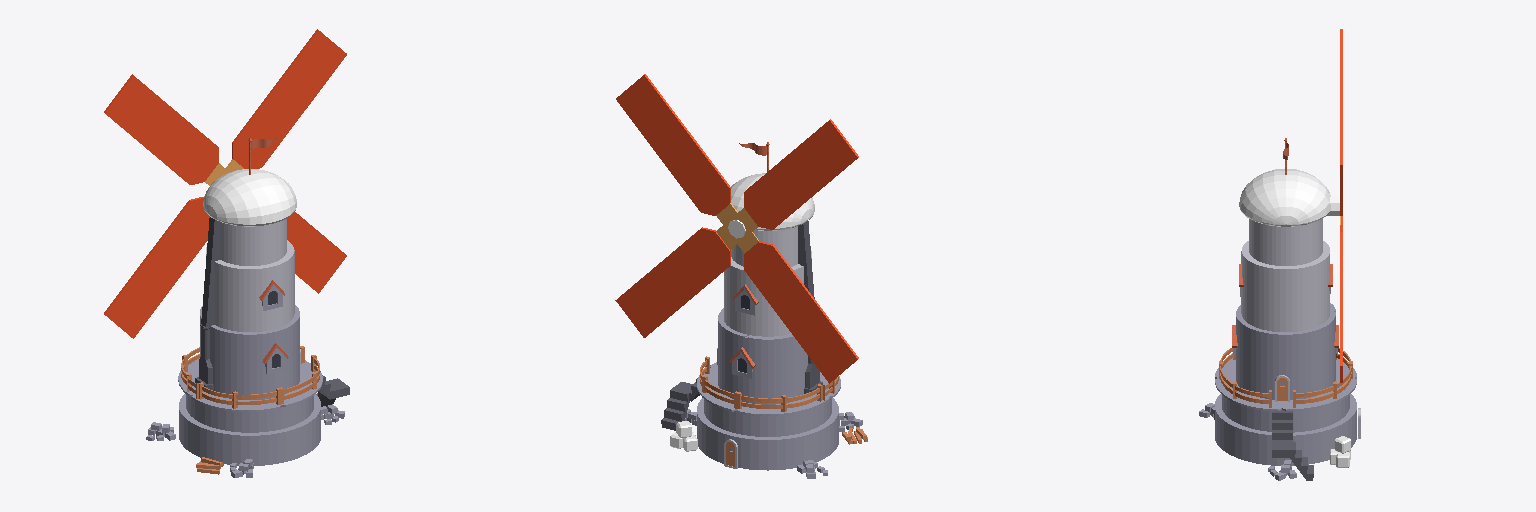
The model's file is mill.model.obj.
3 views of the same model, side by side, from view 1: azimuth 30°, elevation 25°; view 2: azimuth 150°, elevation 25°; view 3: azimuth 270°, elevation 25° (orthographic).
Bounding box in the file's own units: 4.17 × 5.97 × 2.41.